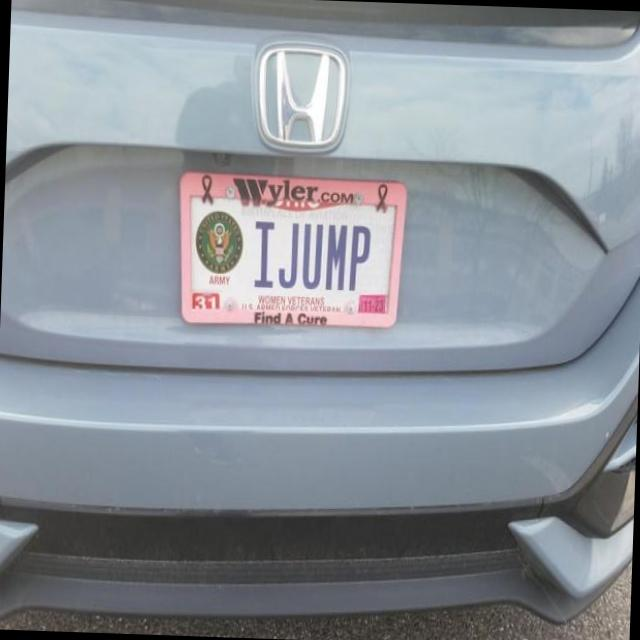LicensePlate: (178, 171, 407, 329)
